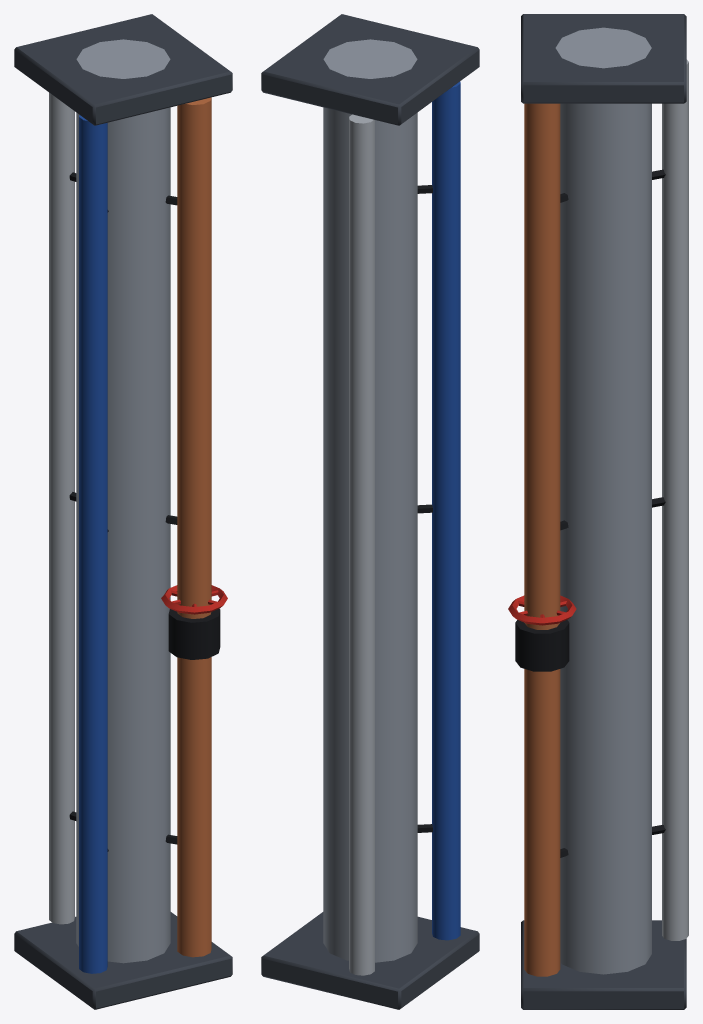
File: pillar_pipe_wrapped.glb
The picture shows the model from 3 angles, left to right: view 1: azimuth 30°, elevation 25°; view 2: azimuth 150°, elevation 25°; view 3: azimuth 270°, elevation 25°; orthographic projection. The views are drawn at different scales.
Visible parts, largest first — view 1: pillar_pipe_wrapped; view 2: pillar_pipe_wrapped; view 3: pillar_pipe_wrapped.
Boxes of the visible parts, box(x1,y1,x2,y2) form: pillar_pipe_wrapped: box(14, 14, 232, 1009); pillar_pipe_wrapped: box(261, 14, 479, 1009); pillar_pipe_wrapped: box(508, 14, 688, 1009).
Bounding box in the file's own units: 0.5506 × 3.4 × 0.6009.
